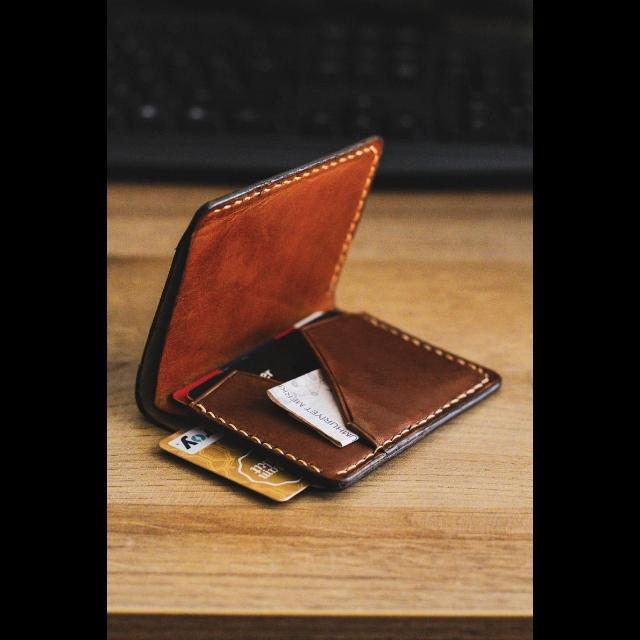wallet: (130, 133, 506, 495)
